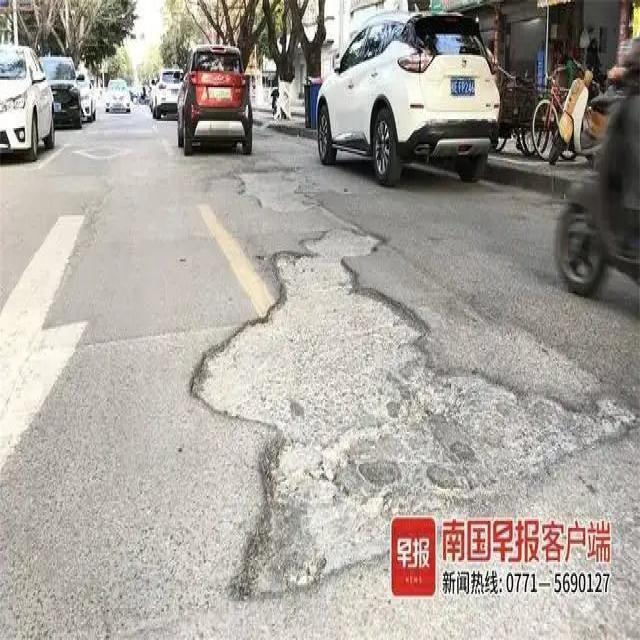pothole: (184, 235, 636, 600), (230, 167, 324, 219)
